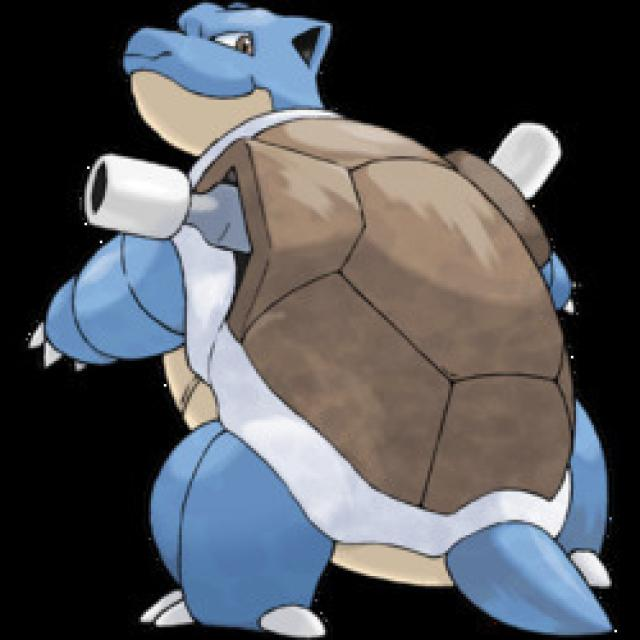Blastoise: (72, 12, 590, 600)
